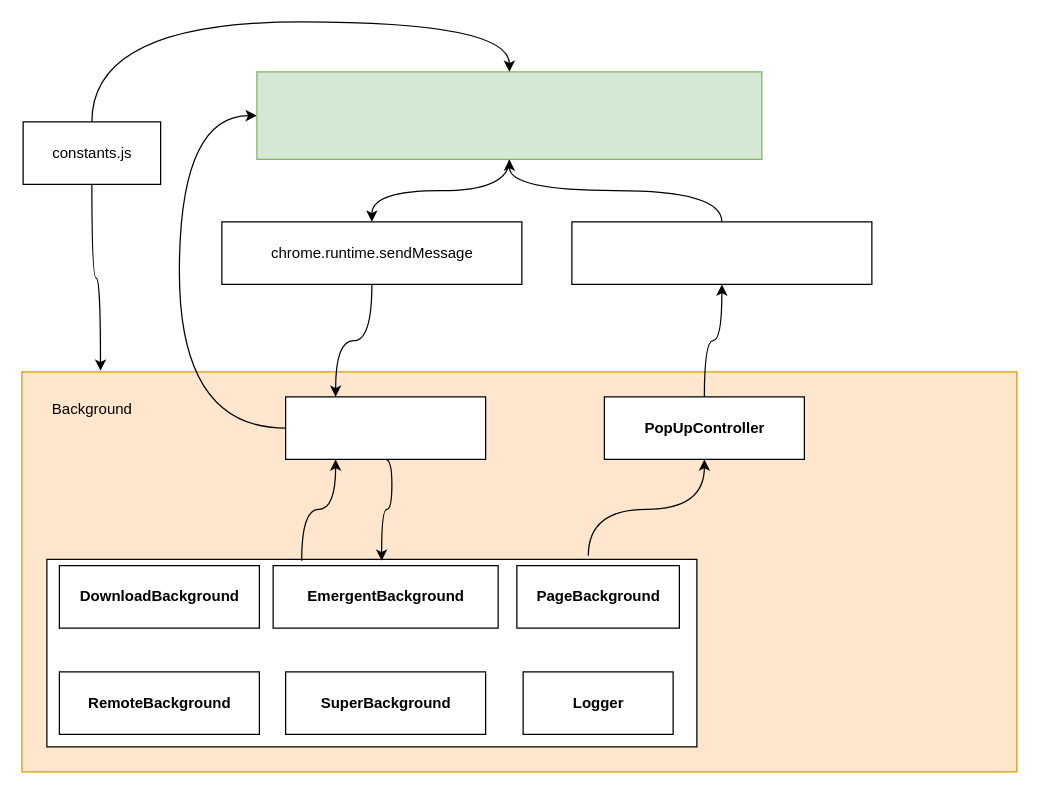
The diagram is 1039 pixels wide and 794 high, and some of its shapes have lost their labels. Here are the shapes that lost their labels. From the top down, the centre of each, then its label:
At [509,115]: "Part visual".
At [721,252]: "chrome.tabs.sendMessage".
At [385,427]: "Controller".
